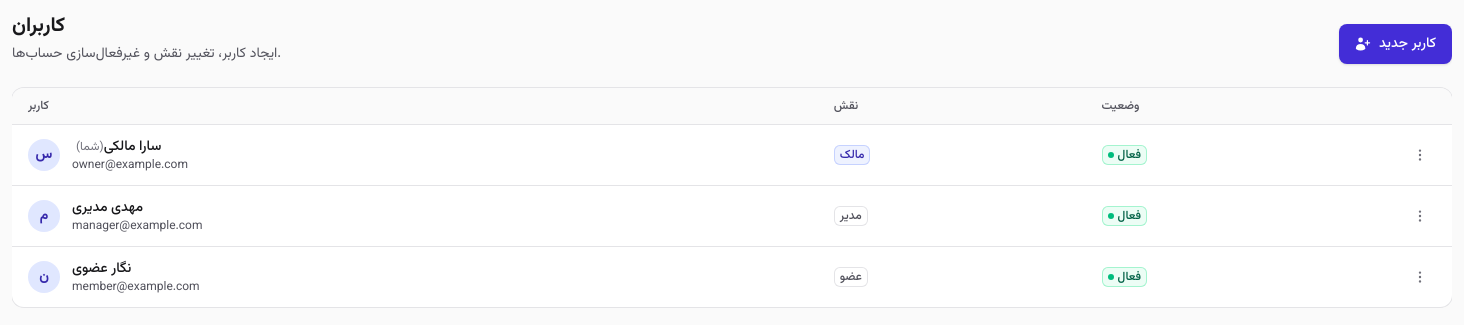
Test case: UserManagement › does not offer disabling your own account
Click the button named "گزینه‌های کاربر «سارا مالکی»": x=1420, y=155 [1404,139,1436,171]
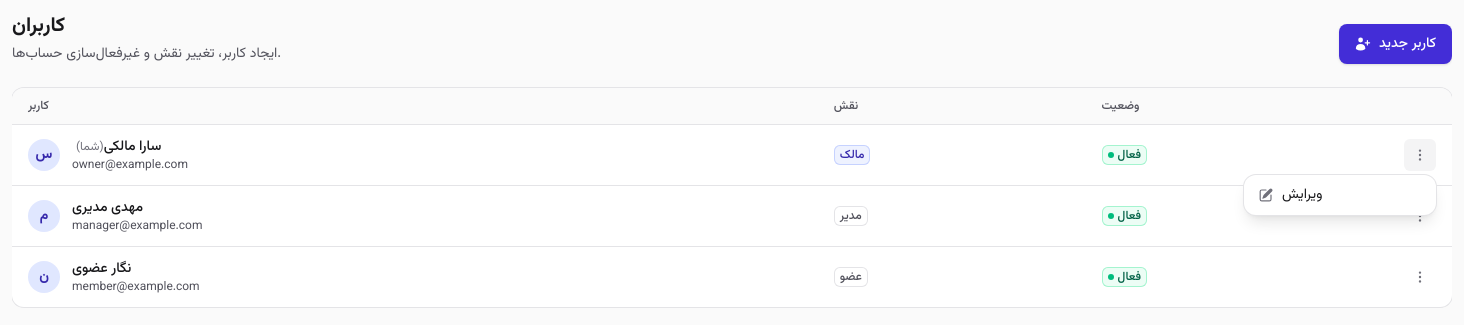
Check: the menu item "ویرایش" is shown, box [1248,179,1432,211]
